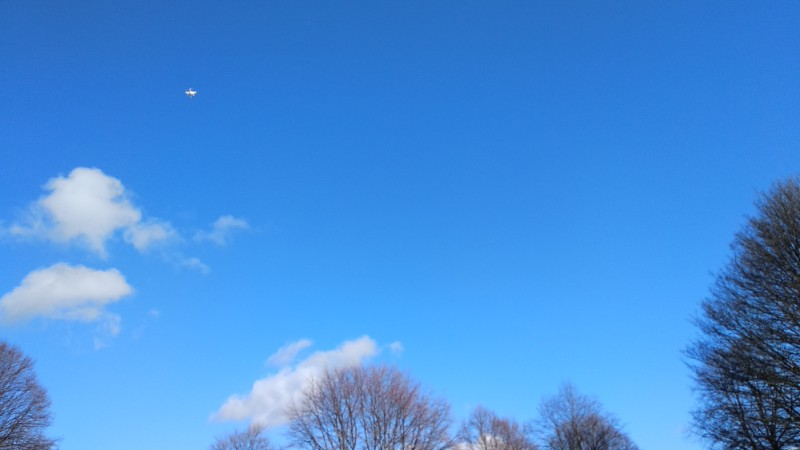drone: (183, 87, 198, 97)
